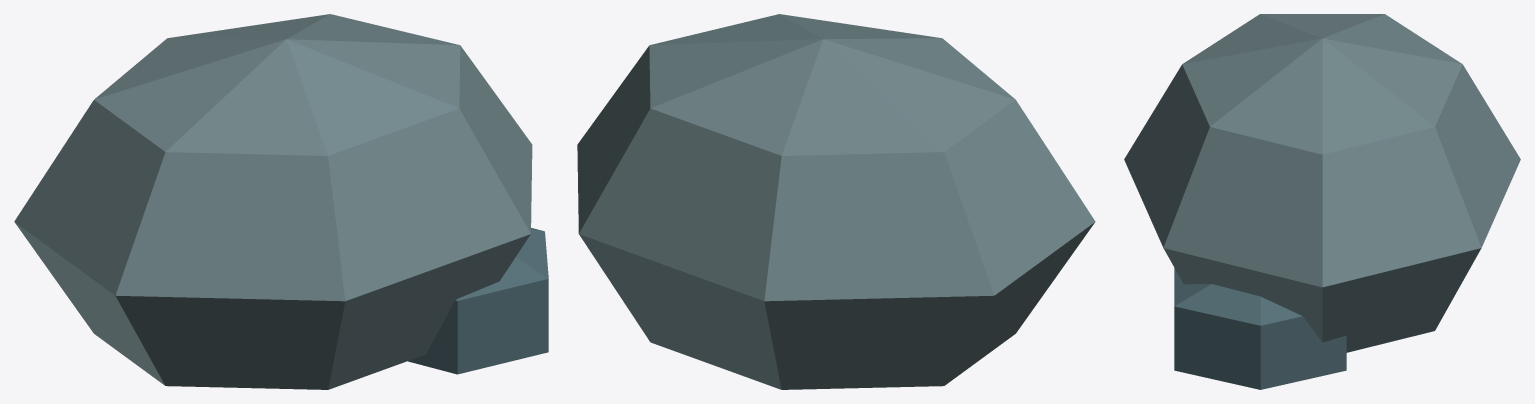
The model's file is rock.obj.
3 views of the same model, side by side, from view 1: azimuth 30°, elevation 25°; view 2: azimuth 150°, elevation 25°; view 3: azimuth 270°, elevation 25° (orthographic). The views are drawn at different scales.
Parts seen in each view (by area): view 1: rock; view 2: rock; view 3: rock.
Boxes of the visible parts, <box> form: rock: <box>14,14,548,389</box>; rock: <box>577,14,1095,389</box>; rock: <box>1124,14,1520,389</box>.
Size of the model in its own units: 5.32 by 3.6 by 4.48.
